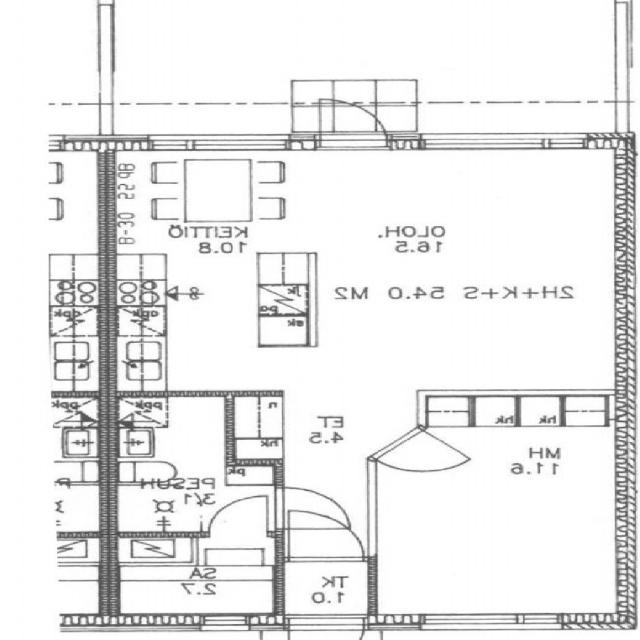door: (372, 425, 471, 487), (290, 510, 364, 561), (320, 94, 386, 150), (274, 488, 349, 528), (210, 495, 268, 537), (289, 613, 364, 640)
